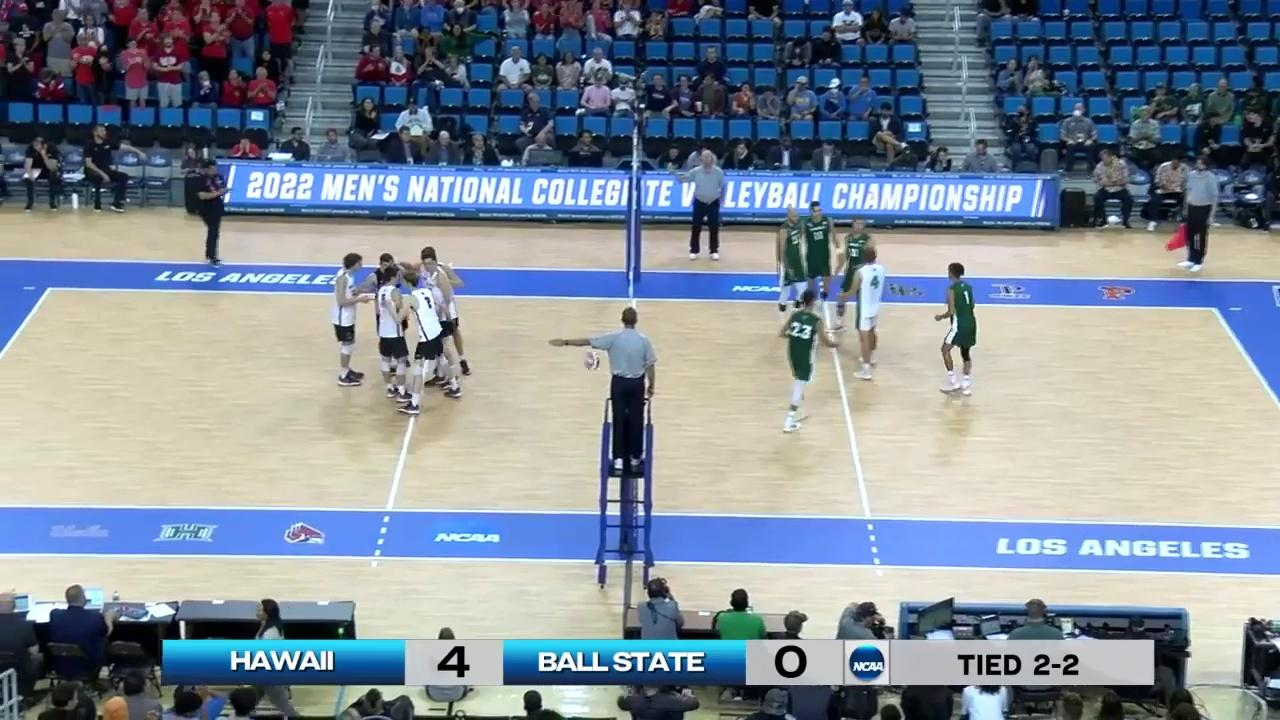player: (401, 268, 462, 411), (413, 247, 469, 386), (781, 292, 834, 433), (832, 216, 879, 341), (938, 264, 980, 397), (327, 254, 367, 387), (370, 249, 412, 375), (848, 248, 886, 383), (420, 256, 459, 384), (380, 264, 412, 404), (802, 201, 837, 328), (773, 207, 806, 329)
refree: (600, 307, 658, 470), (1176, 157, 1219, 274), (682, 151, 725, 260)
